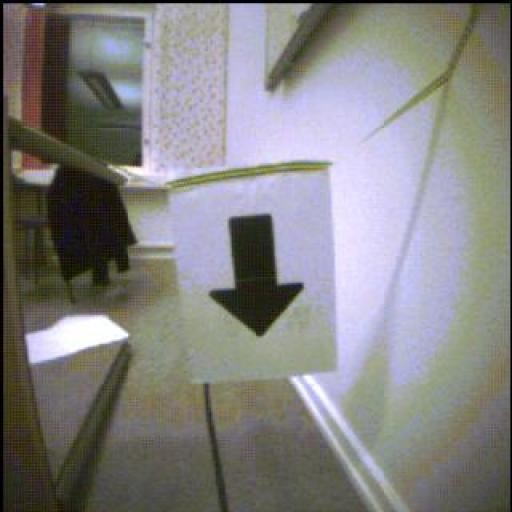arrow: (211, 215, 305, 337)
